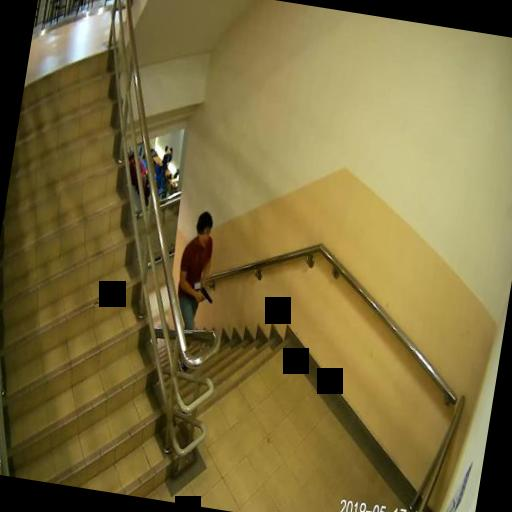Handgun: (196, 284, 212, 302)
